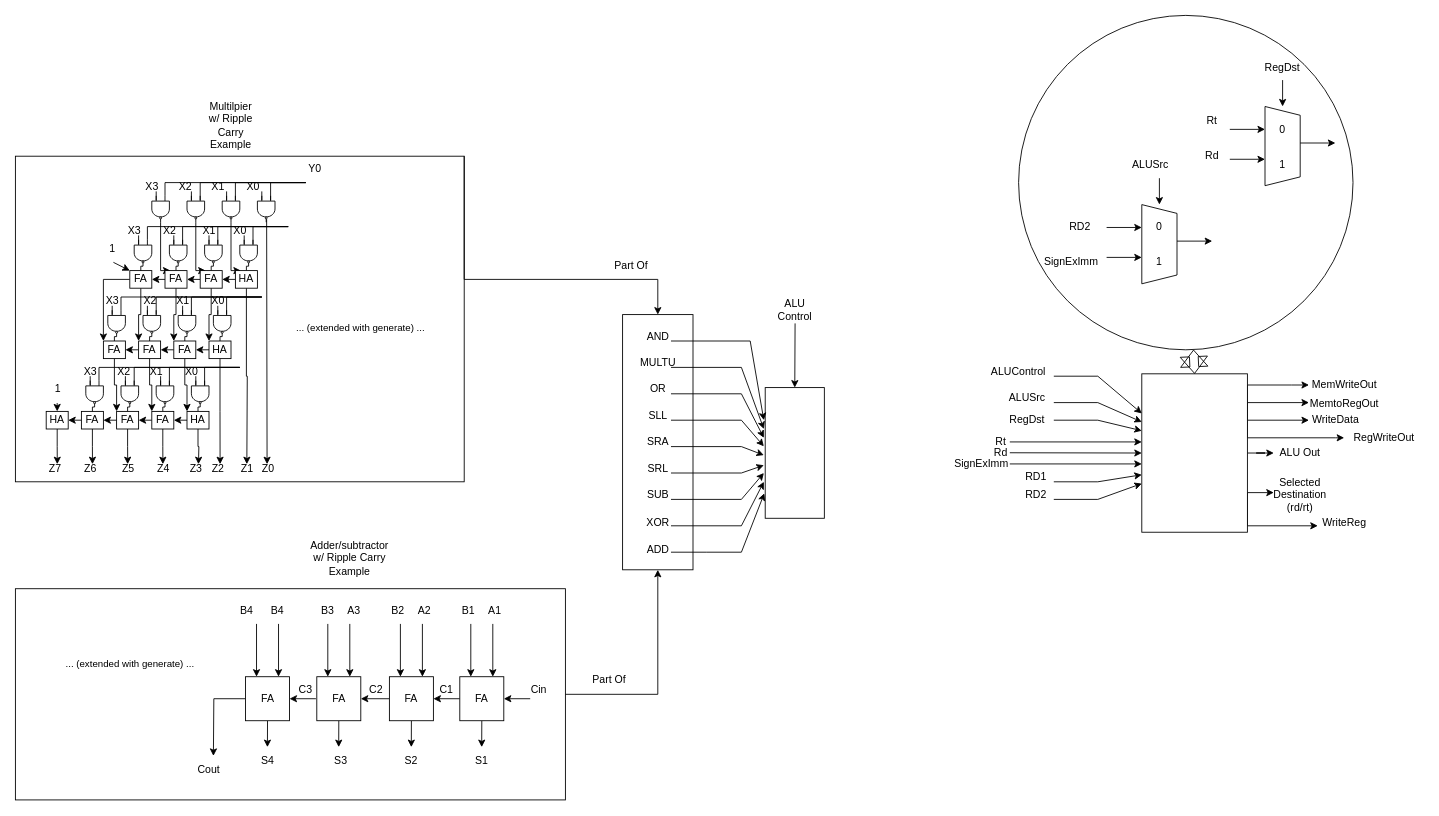
Some shapes in this 1439 by 816 pixel diagram are drawn without their labels. The shapes that lost their labels are listed below. From the top down, each one's centre as x and y in pixels, then its label:
[794,452]: ALU _Mux
[1194,452]: Execute Stage Wrapper
